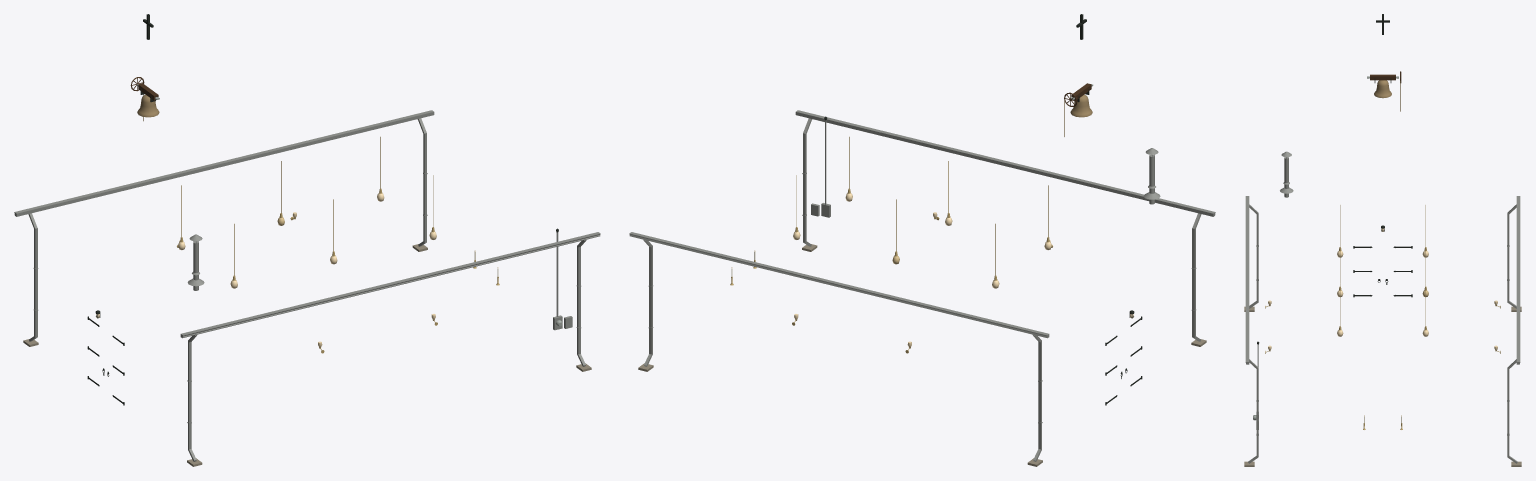
File: SM_Town_Church_Fixtures_LOD1.fbx
3 views of the same model, side by side, from view 1: azimuth 30°, elevation 25°; view 2: azimuth 150°, elevation 25°; view 3: azimuth 270°, elevation 25° (orthographic). The views are drawn at different scales.
Visible parts, largest first — view 1: SM_Town_Church_Fixtures_LOD1; view 2: SM_Town_Church_Fixtures_LOD1; view 3: SM_Town_Church_Fixtures_LOD1.
Part boxes in pixels (x1,y1,x2,y2): SM_Town_Church_Fixtures_LOD1: (14,14,600,466); SM_Town_Church_Fixtures_LOD1: (629,14,1215,466); SM_Town_Church_Fixtures_LOD1: (1244,14,1521,466).
Bounding box in the file's own units: 14.79 × 10.36 × 12.79.
